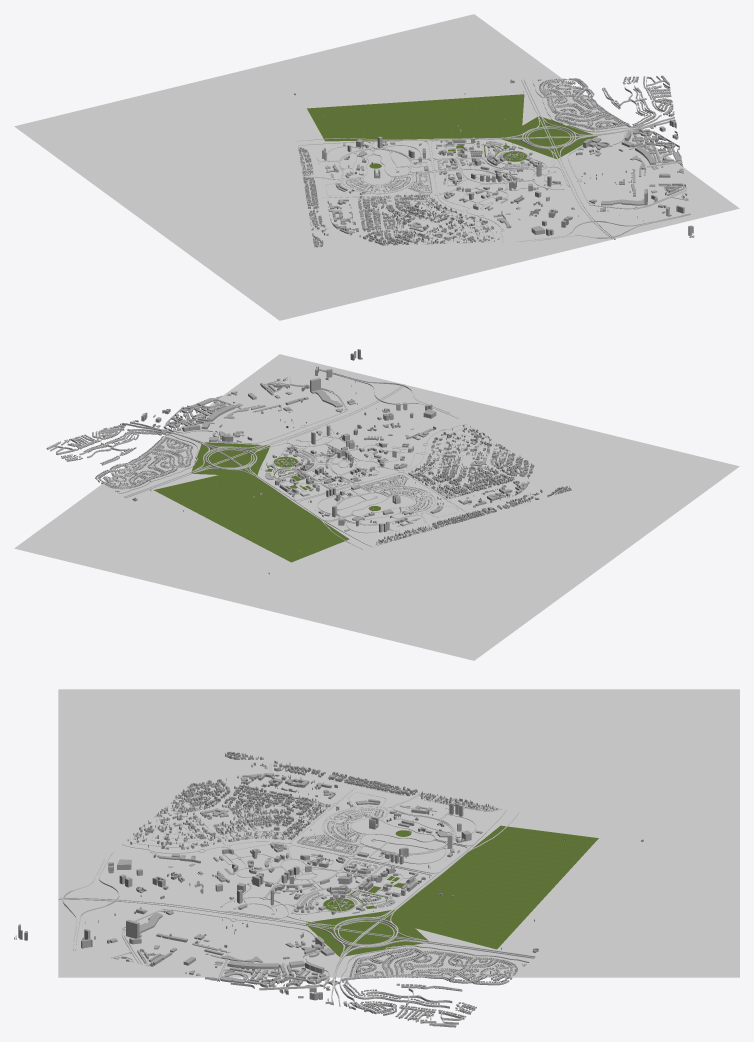
File: map.glb
The picture shows the model from 3 angles, top to bottom: view 1: azimuth 30°, elevation 25°; view 2: azimuth 150°, elevation 25°; view 3: azimuth 270°, elevation 25°; orthographic projection. The views are drawn at different scales.
Visible parts, largest first — view 1: land, build, tree, road; view 2: land, build, road, tree; view 3: land, build, tree, road.
Boxes of the visible parts, bbox=[...] form: land: bbox=[14, 14, 739, 320]; build: bbox=[294, 76, 693, 247]; tree: bbox=[307, 94, 597, 168]; road: bbox=[297, 75, 694, 244]; land: bbox=[14, 354, 739, 660]; build: bbox=[57, 349, 571, 574]; road: bbox=[46, 357, 539, 549]; tree: bbox=[153, 442, 380, 562]; land: bbox=[58, 689, 739, 977]; build: bbox=[18, 751, 643, 1022]; tree: bbox=[306, 825, 598, 956]; road: bbox=[14, 763, 535, 1027].
Size of the model in its own units: 7194 by 172 by 6552.
Materials: 4 (1 with a texture image).
